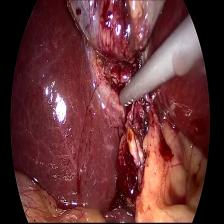Irrigator: (115, 71, 143, 110)
